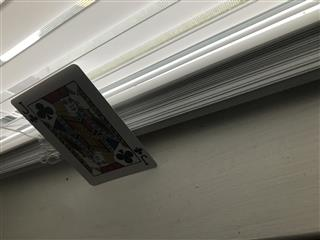JackOfClubs: (10, 63, 157, 186)
